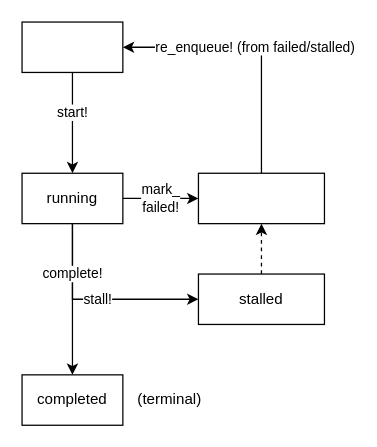
Some shapes in this 377 by 447 pixel diagram are drawn without their labels. Each missing label, with the box of its shape:
failed: (197, 172, 324, 224)
queued: (21, 21, 123, 72)
